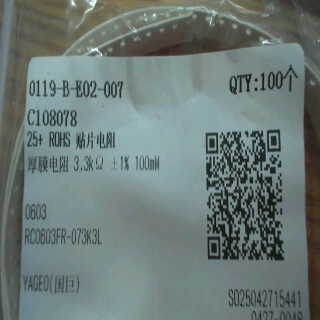3.3kO: (71, 152, 110, 174)
